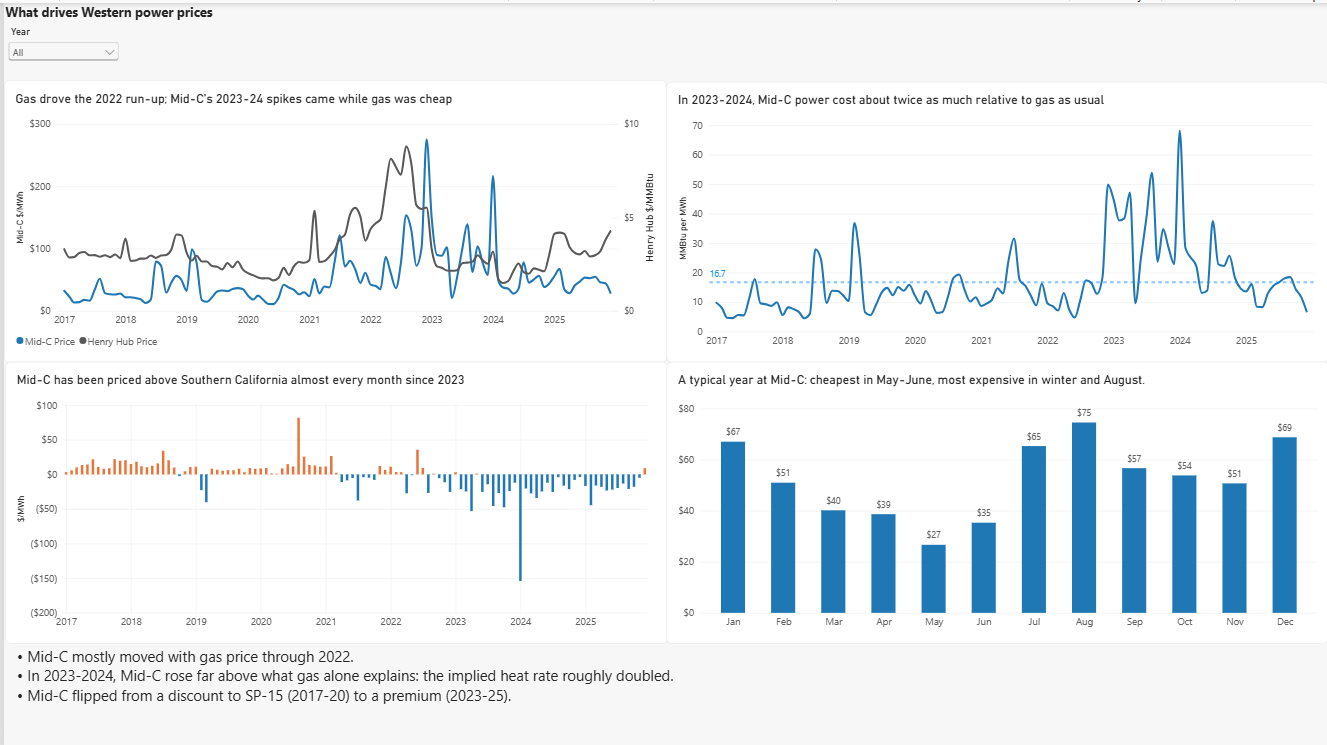

Layout of this report page (visuals, bound fields, positions):
{"tool":"powerbi","page":{"name":"Drivers","canvas":[1920,1080],"ordinal":1},"visuals":[{"type":"slicer","fields":{"Values":["dim_date.Year"]},"box":[1.2,32.5,168.8,80],"z":0},{"type":"lineChart","title":"Gas drove the 2022 run-up; Mid-C''s 2023-24 spikes came while gas was cheap","fields":{"Category":["dim_date.MonthStart"],"Y":["_Measures.Mid-C Price"],"Y2":["_Measures.Henry Hub Price"]},"box":[0,111.9,960,408.3],"z":2000},{"type":"textbox","box":[1.4,0,431.4,32.9],"z":3000},{"type":"lineChart","title":"In 2023-2024, Mid-C power cost about twice as much relative to gas as usual","fields":{"Category":["dim_date.MonthStart"],"Y":["_Measures.Implied Heat Rate"]},"box":[960,113.9,960,406.4],"z":4000},{"type":"clusteredColumnChart","title":"Mid-C has been priced above Southern California almost every month since 2023","fields":{"Category":["dim_date.MonthStart"],"Y":["_Measures.SP-15 minus Mid-C"]},"box":[2,520.2,960,408],"z":5000},{"type":"clusteredColumnChart","title":"A typical year at Mid-C: cheapest in May-June, most expensive in winter and August.","fields":{"Category":["dim_date.Month"],"Y":["_Measures.Mid-C Price"]},"box":[960,520.2,960,408.3],"z":6000},{"type":"textbox","box":[1.8,930.2,1916.4,150.2],"z":7000}]}

Visuals, with their boxes in screenshot pixels (x1, y1, x2, y2), scaled from the page's 1920x1080 canvas onto the 1327x745 screenshot:
slicer - dim_date.Year: bbox=[1, 22, 117, 78]
"Gas drove the 2022 run-up; Mid-C''s 2023-24 spikes came while gas was cheap" lineChart: bbox=[0, 77, 664, 359]
textbox: bbox=[1, 0, 299, 23]
"In 2023-2024, Mid-C power cost about twice as much relative to gas as usual" lineChart: bbox=[664, 79, 1326, 359]
"Mid-C has been priced above Southern California almost every month since 2023" clusteredColumnChart: bbox=[1, 359, 665, 640]
"A typical year at Mid-C: cheapest in May-June, most expensive in winter and August." clusteredColumnChart: bbox=[664, 359, 1326, 640]
textbox: bbox=[1, 642, 1326, 744]
